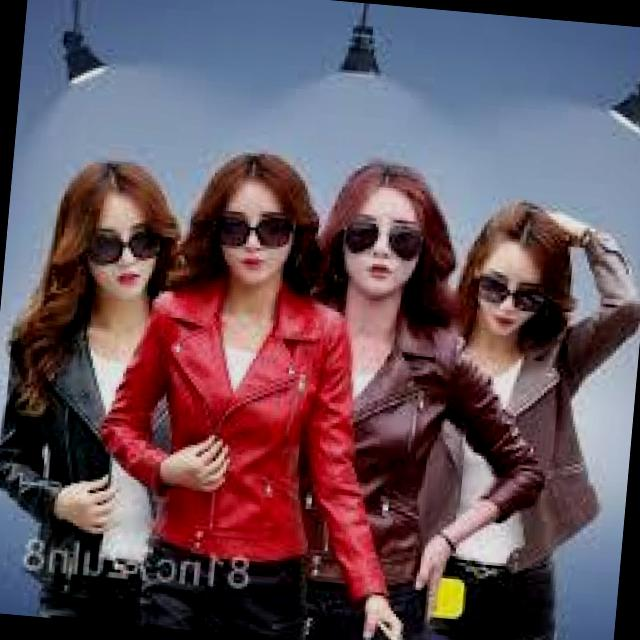jacket: (82, 274, 414, 601), (270, 303, 556, 601), (0, 302, 215, 601)
